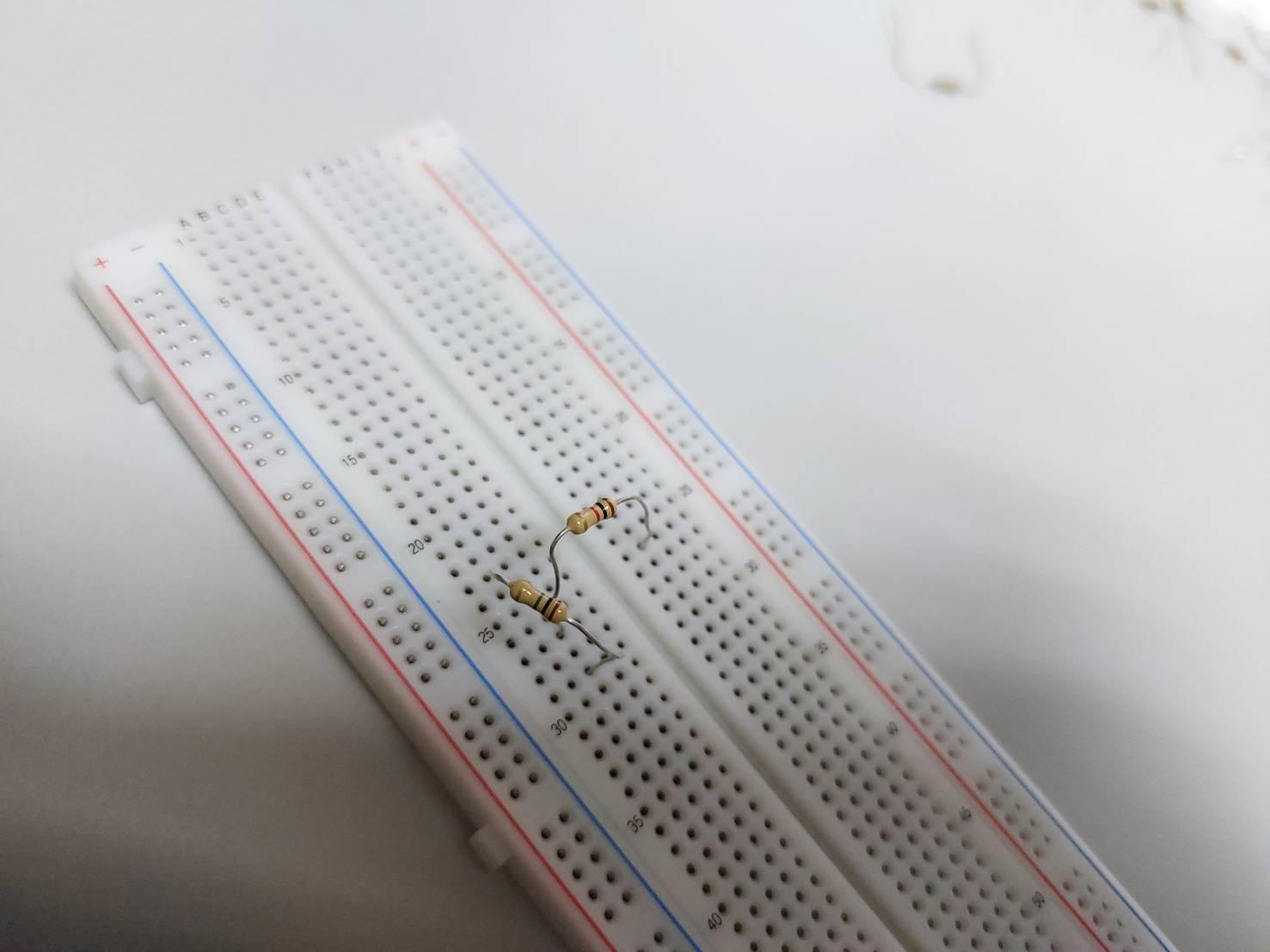resistor: (507, 579, 570, 625), (565, 496, 614, 534)
